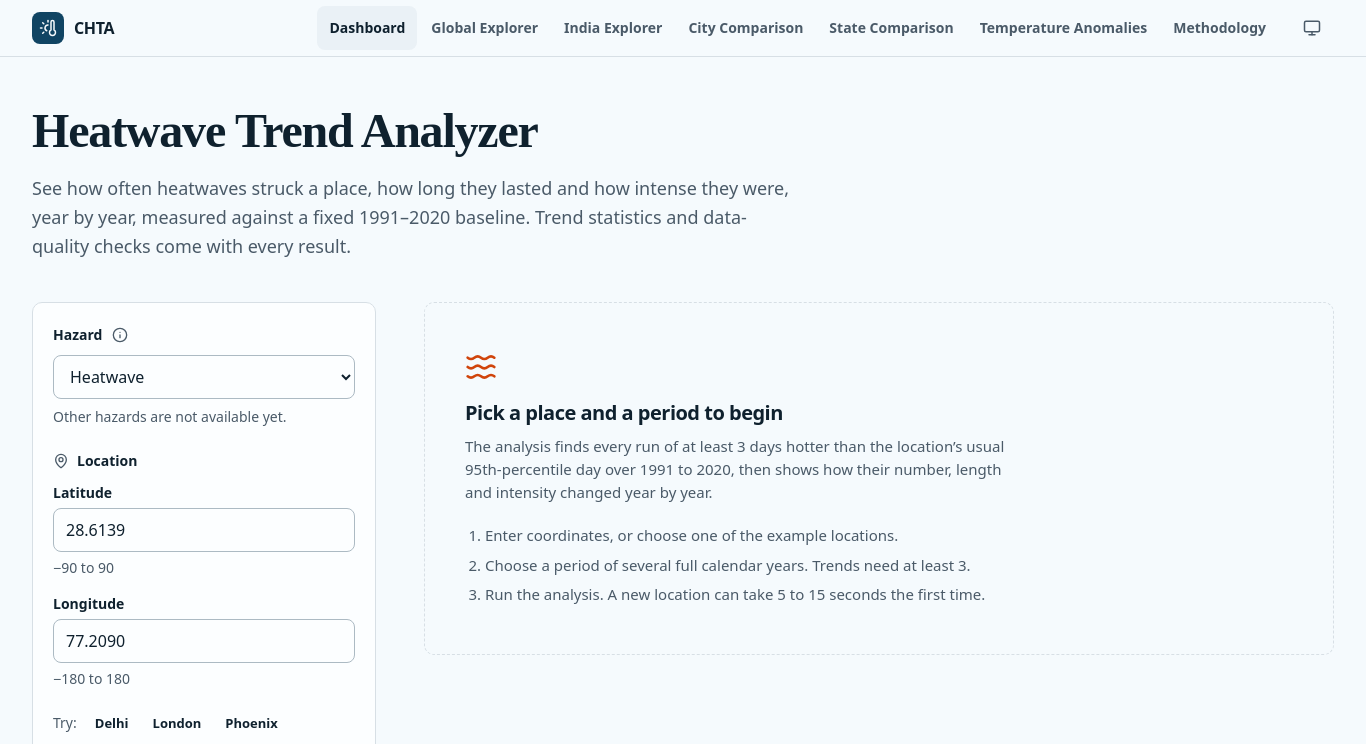
form validation › blocks the request, shows the problem next to the field and focuses it
Replace the text in the field labelled "Latitude" with "123" at (204, 530), box [53,508,355,552]
(page scrolled)
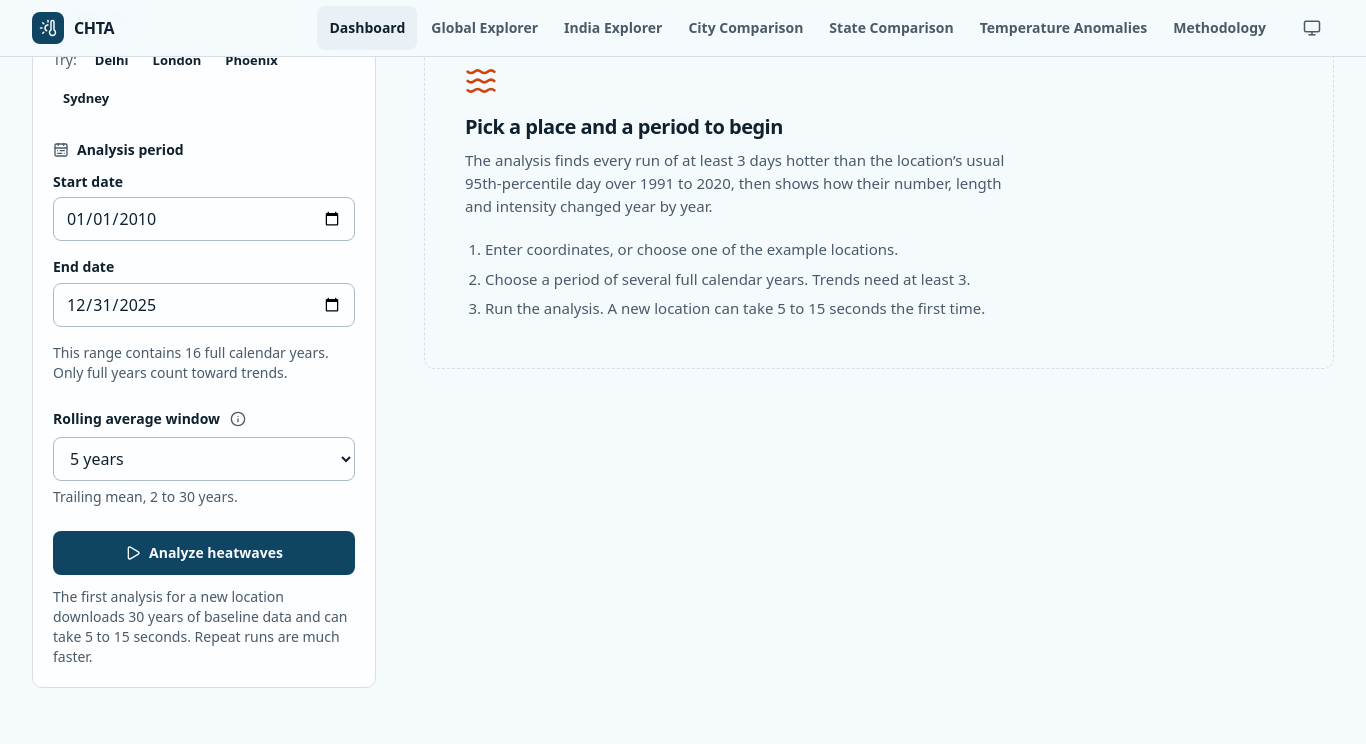
Click the button "Analyze heatwaves".
click(204, 552)  # box [53,530,355,574]
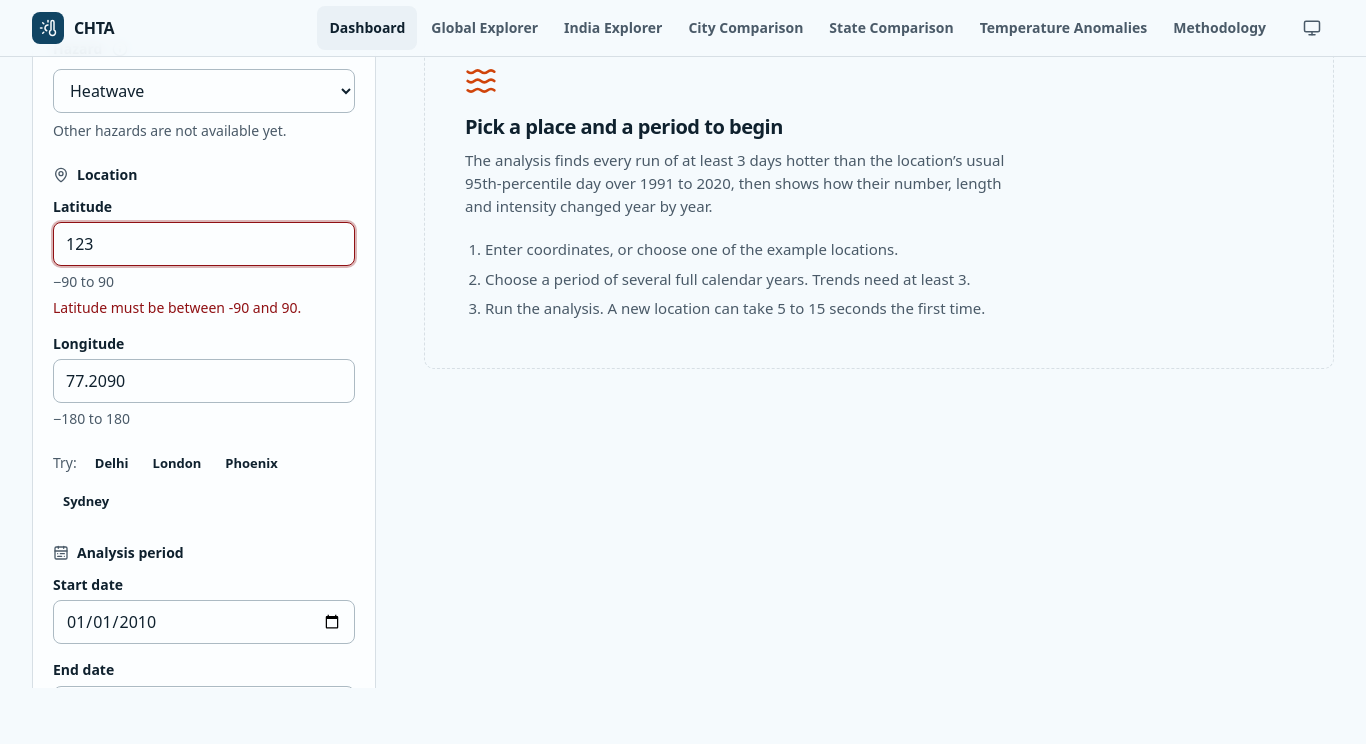
expect the message reads "Latitude must be between -90 and 90.": met, box [53,298,301,317]
